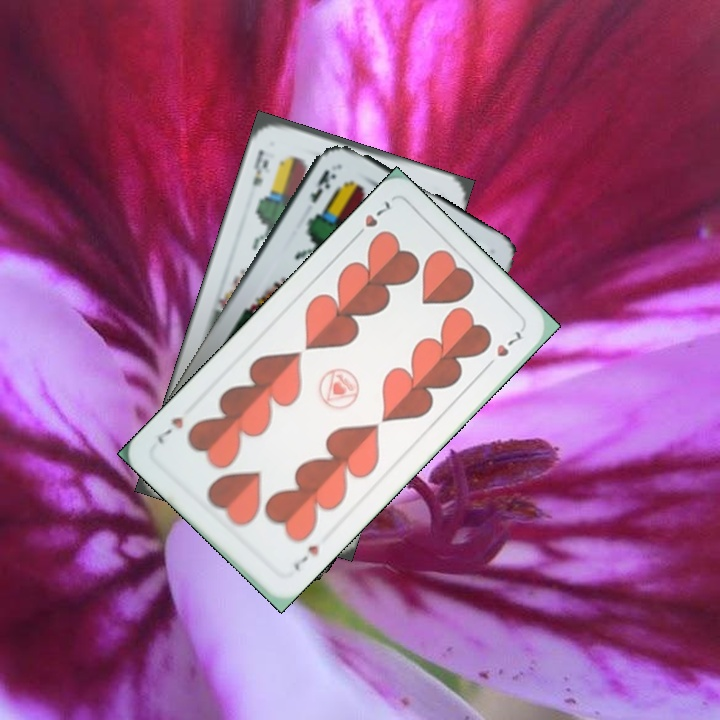EK: (305, 165, 340, 207), (248, 146, 272, 189)
H7: (349, 197, 393, 243), (289, 541, 321, 574)
